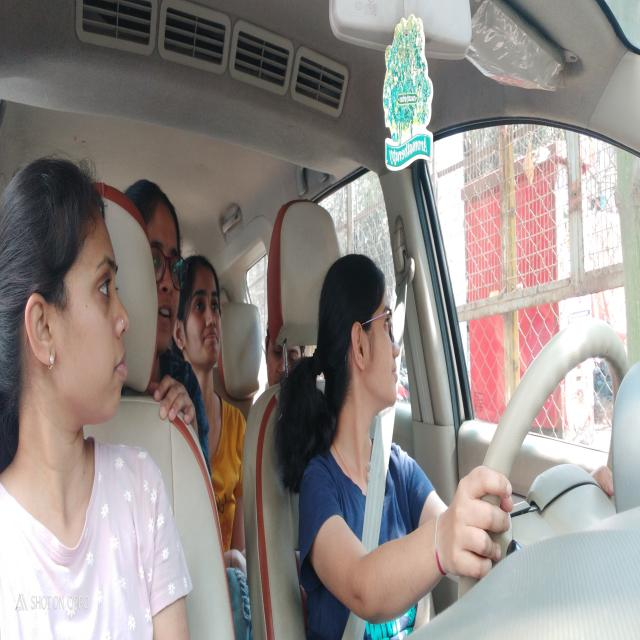LeftRight: (22, 174, 135, 430), (328, 252, 405, 419)
person: (146, 193, 188, 349), (188, 250, 224, 368), (262, 336, 302, 378)
